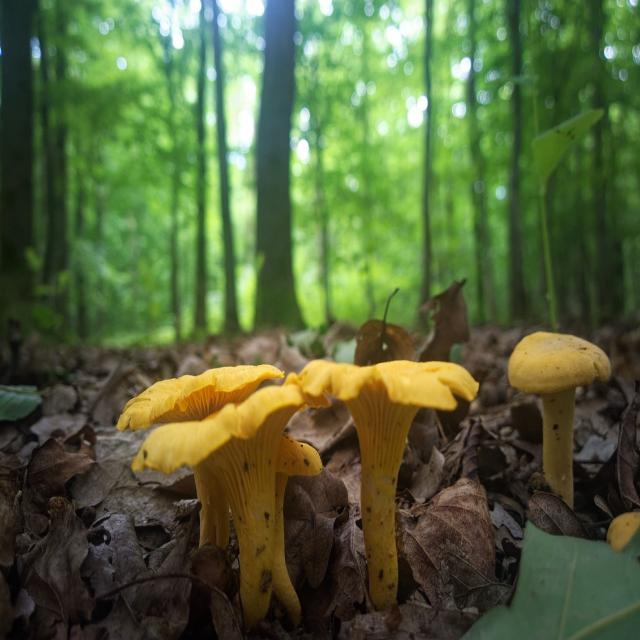chanterelle: (296, 360, 480, 611), (131, 384, 306, 631), (507, 330, 613, 508)
